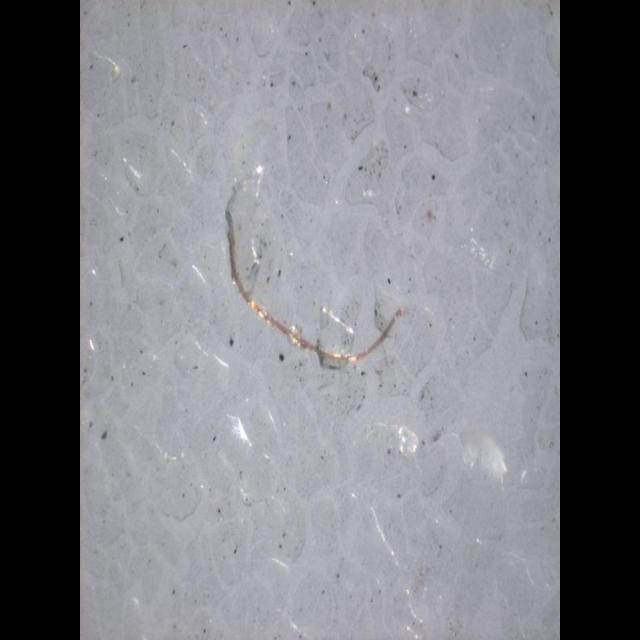Fibre: (224, 164, 402, 370)
